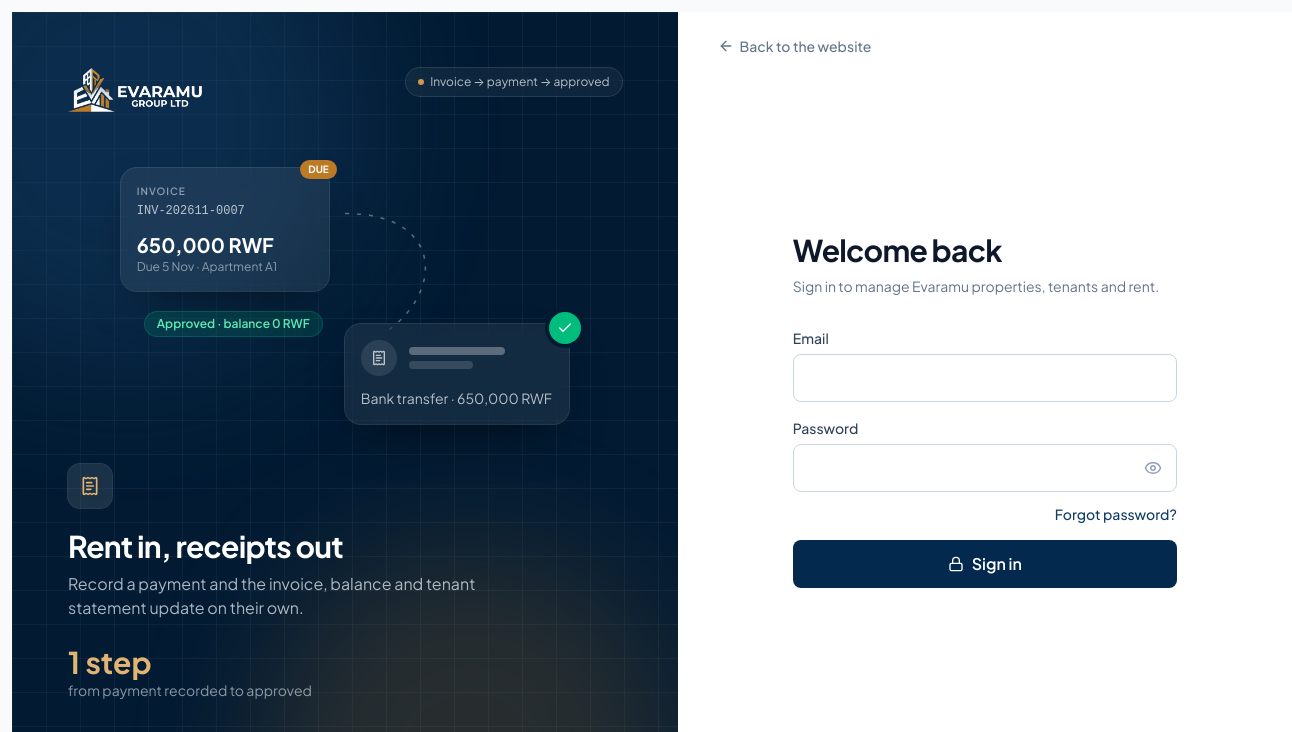
it: LoginPage › signs in and goes to the dashboard
Type "alice@example.com" into the field labelled "Email" at (985, 378), box [793,354,1177,402]
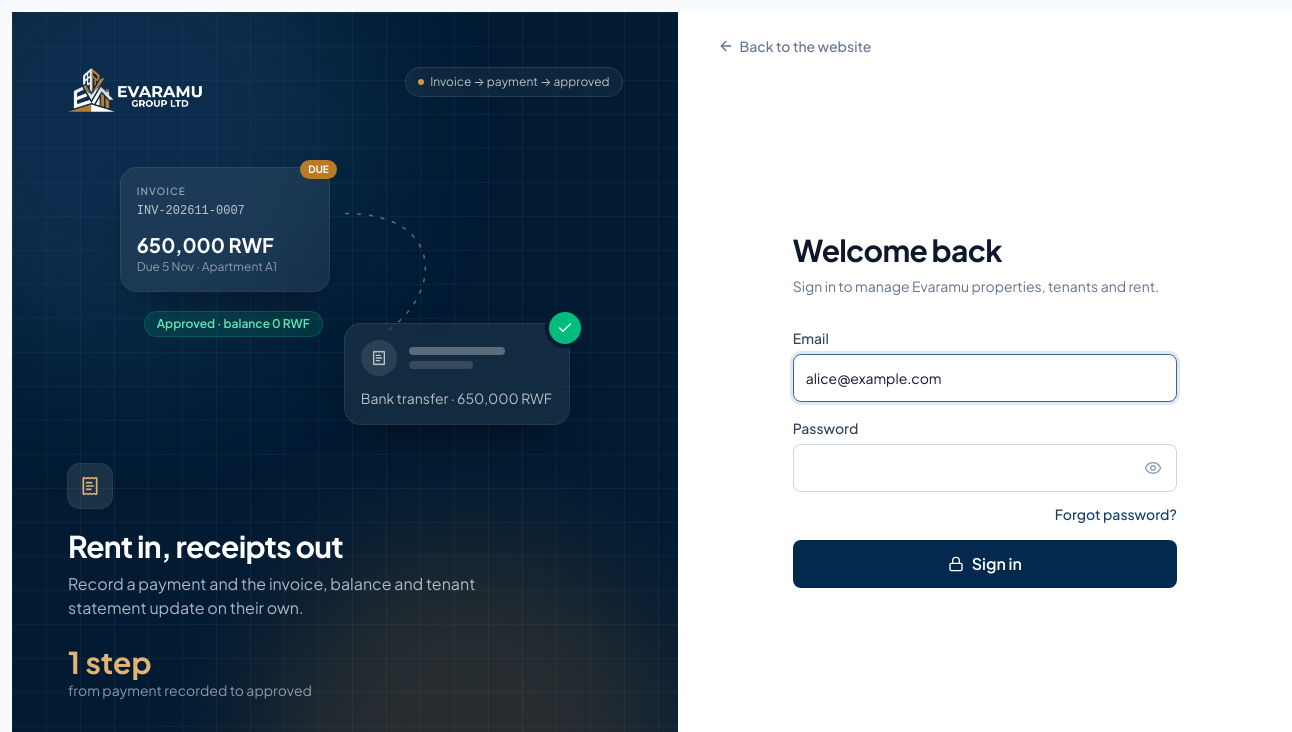
Type "Correct!Passw0rd" into the password field labelled "Password" at (985, 468), box [793,444,1177,492]
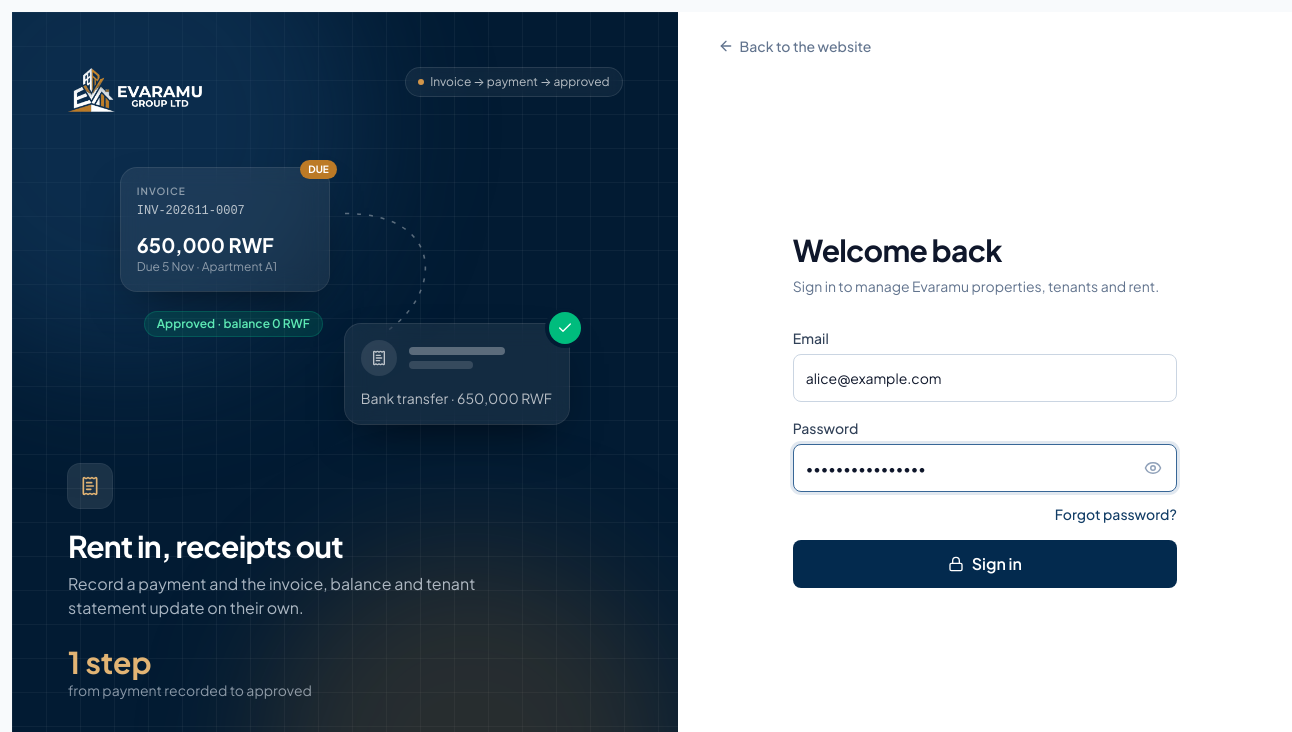
Click the button "Sign in" at (985, 564), box [793,540,1177,588]
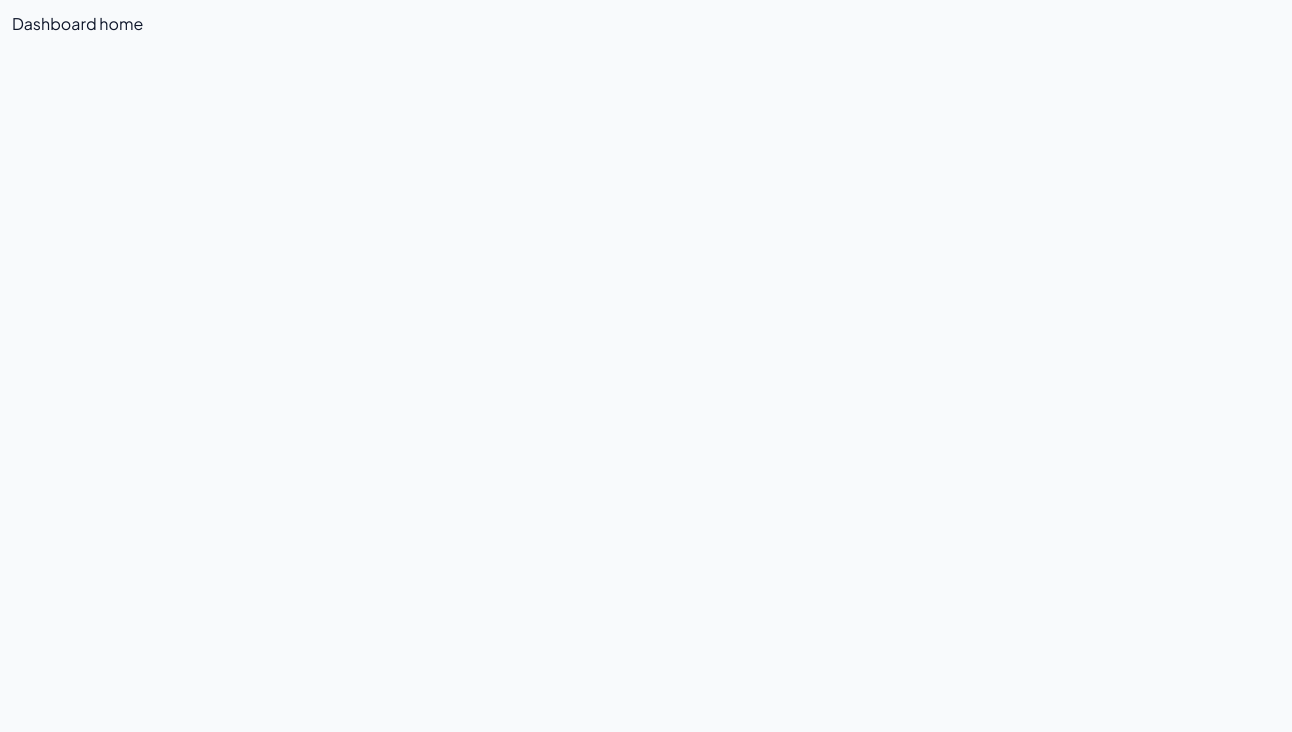
Expected: the text "Dashboard home" is shown, [12,13,143,34]
